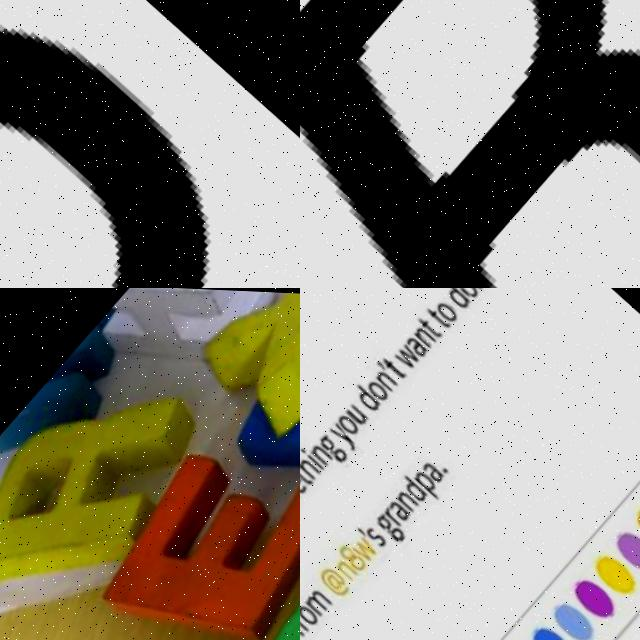8: (329, 538, 361, 569)
A: (380, 494, 408, 521), (415, 455, 442, 480), (399, 330, 425, 355)
B: (300, 0, 640, 288)
D: (346, 380, 379, 411), (392, 470, 424, 501), (437, 288, 470, 307)
E: (60, 418, 300, 640)
G: (310, 428, 345, 462), (368, 509, 403, 542)
H: (300, 449, 317, 478)
I: (300, 442, 320, 467)
M: (300, 585, 326, 614)
N: (303, 439, 329, 464), (408, 320, 433, 345), (390, 484, 415, 509), (370, 366, 396, 390), (329, 556, 352, 578)
O: (329, 408, 357, 435), (359, 373, 387, 400), (431, 294, 459, 321), (300, 598, 314, 624), (450, 288, 478, 296)
P: (0, 21, 208, 288), (406, 464, 440, 495)
R: (0, 322, 239, 640), (376, 501, 399, 523), (300, 608, 305, 630)
S: (358, 522, 384, 546)
T: (376, 352, 404, 378), (413, 312, 439, 336), (422, 302, 448, 325), (300, 459, 309, 485)
U: (341, 401, 367, 425)
W: (388, 339, 420, 369), (345, 531, 374, 559)
X: (191, 288, 300, 436)
Y: (325, 419, 356, 449)
